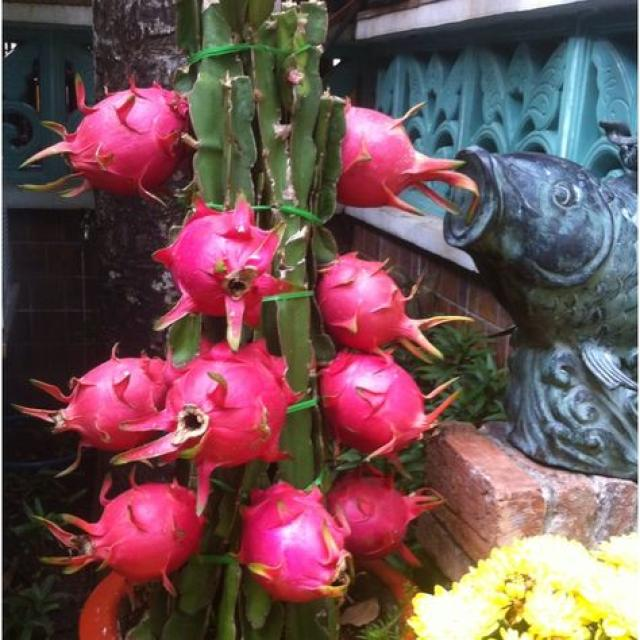Thanh Long: (36, 71, 198, 189), (158, 198, 284, 336), (141, 351, 287, 466), (51, 485, 222, 583), (343, 88, 469, 215), (311, 348, 454, 456), (322, 461, 448, 570), (52, 353, 195, 444), (329, 252, 444, 362), (246, 484, 352, 596)
